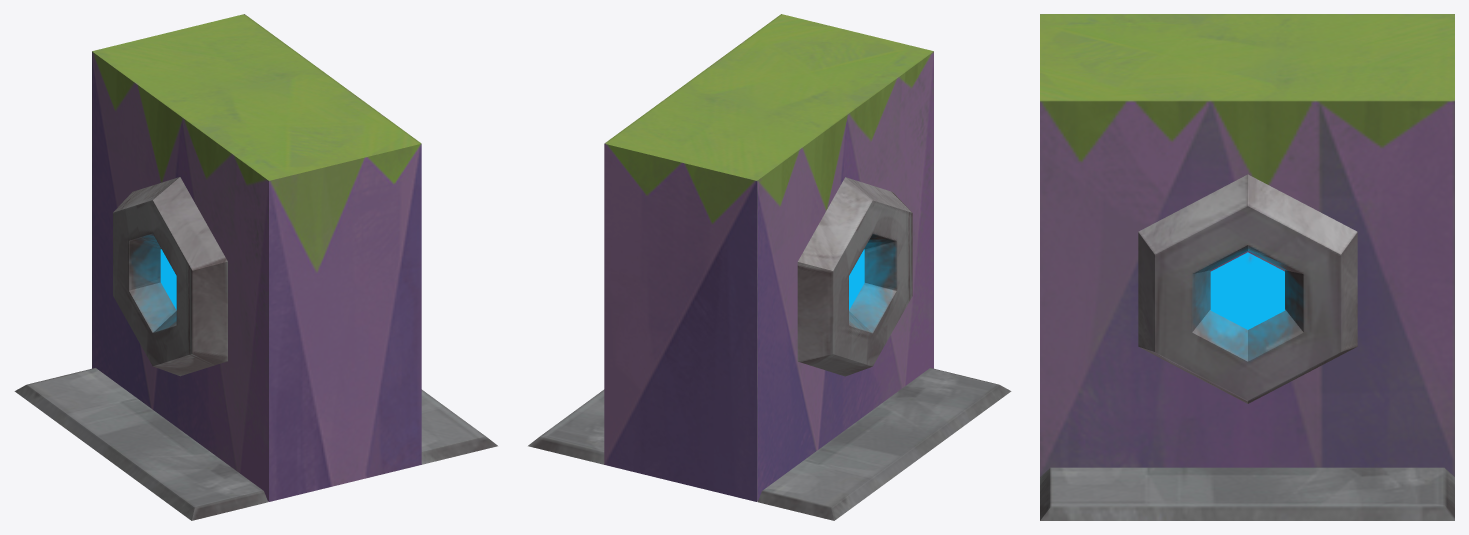
Rendered from wall_shot.fbx.
The picture shows the model from 3 angles, left to right: view 1: azimuth 30°, elevation 25°; view 2: azimuth 150°, elevation 25°; view 3: azimuth 270°, elevation 25°; orthographic projection. The views are drawn at different scales.
Parts seen in each view (by area): view 1: wall_shot_chunk_wall_shot_wall, wall_shot_body1, zootonium_shot1; view 2: wall_shot_chunk_wall_shot_wall, wall_shot_body1, zootonium_shot1; view 3: wall_shot_chunk_wall_shot_wall, wall_shot_body, zootonium_shot.
Part boxes in pixels (x1,y1,x2,y2): wall_shot_chunk_wall_shot_wall: (14, 14, 497, 520); wall_shot_body1: (113, 177, 227, 376); zootonium_shot1: (160, 249, 176, 309); wall_shot_chunk_wall_shot_wall: (528, 14, 1011, 520); wall_shot_body1: (797, 177, 912, 376); zootonium_shot1: (849, 249, 864, 310); wall_shot_chunk_wall_shot_wall: (1040, 14, 1454, 520); wall_shot_body: (1138, 174, 1357, 403); zootonium_shot: (1210, 252, 1284, 329).
Bounding box in the file's own units: 2 × 2 × 2.
